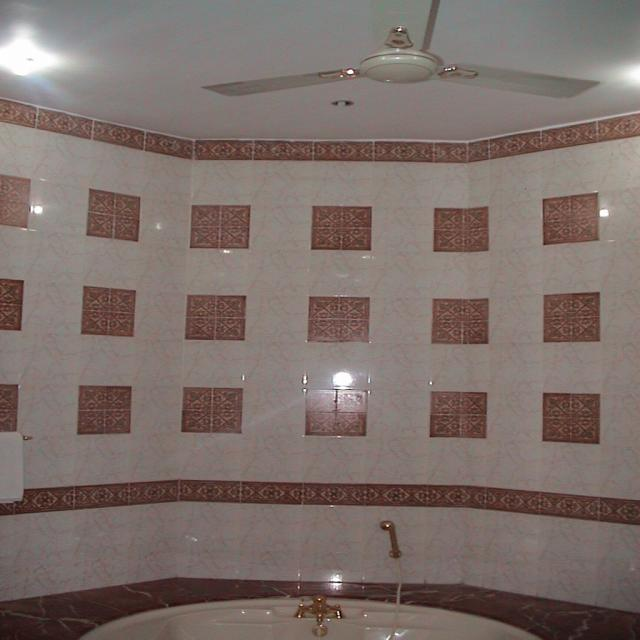bulb_on: (0, 36, 54, 78), (332, 372, 352, 392)
fan_off: (199, 0, 597, 99)
